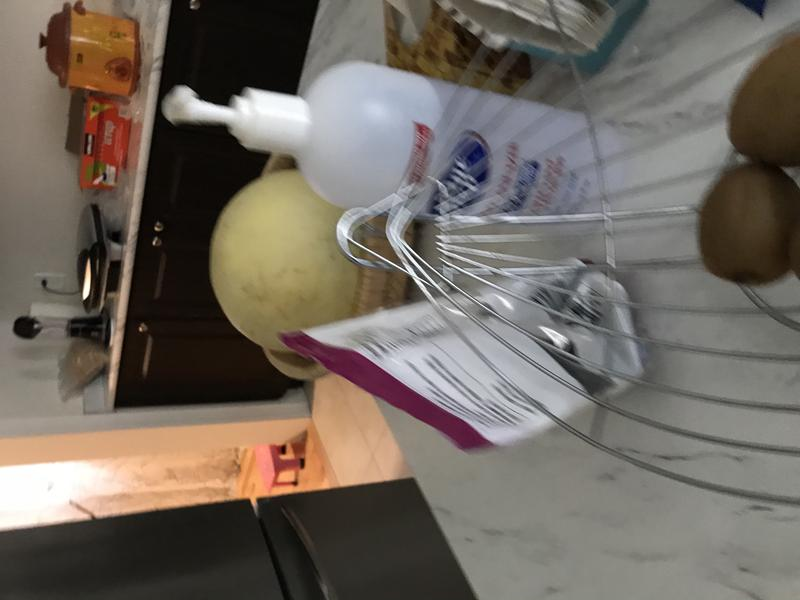honeydew: (198, 157, 385, 378)
